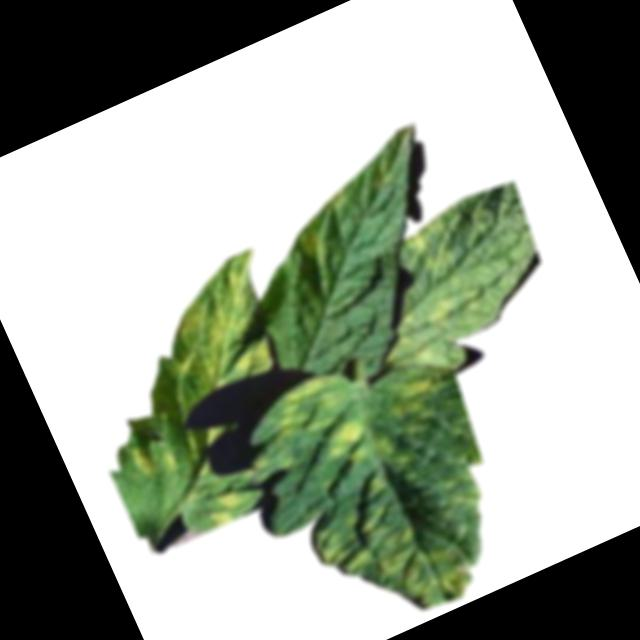Leaf_Mold: (296, 455, 477, 640), (140, 246, 297, 405), (369, 272, 513, 385), (262, 366, 355, 443), (400, 207, 474, 279), (377, 360, 452, 430), (319, 415, 378, 472), (293, 223, 341, 275), (203, 484, 252, 530), (129, 442, 163, 483), (324, 184, 357, 212)
